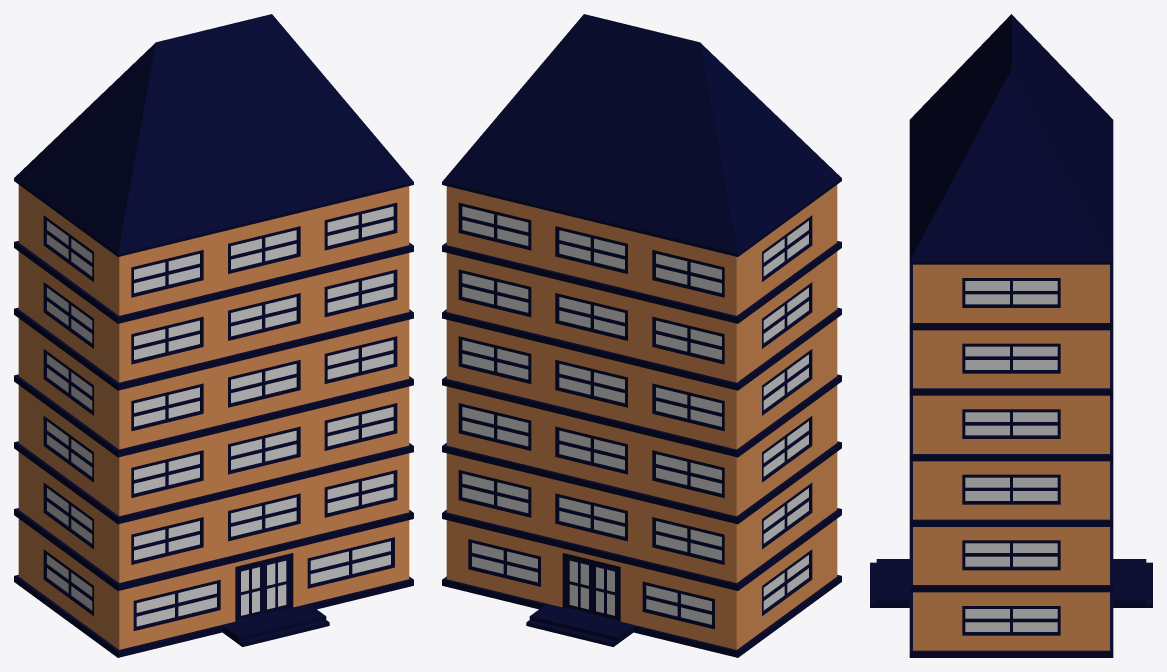
File: business building 20.fbx
3 views of the same model, side by side, from view 1: azimuth 30°, elevation 25°; view 2: azimuth 150°, elevation 25°; view 3: azimuth 270°, elevation 25° (orthographic).
Parts seen in each view (by area): view 1: building_001; view 2: building_001; view 3: building_001.
Part boxes in pixels (<box>): building_001: <box>14,14,413,657</box>; building_001: <box>442,14,841,657</box>; building_001: <box>870,14,1152,657</box>.
Bounding box in the file's own units: 1020 × 1830 × 860.
